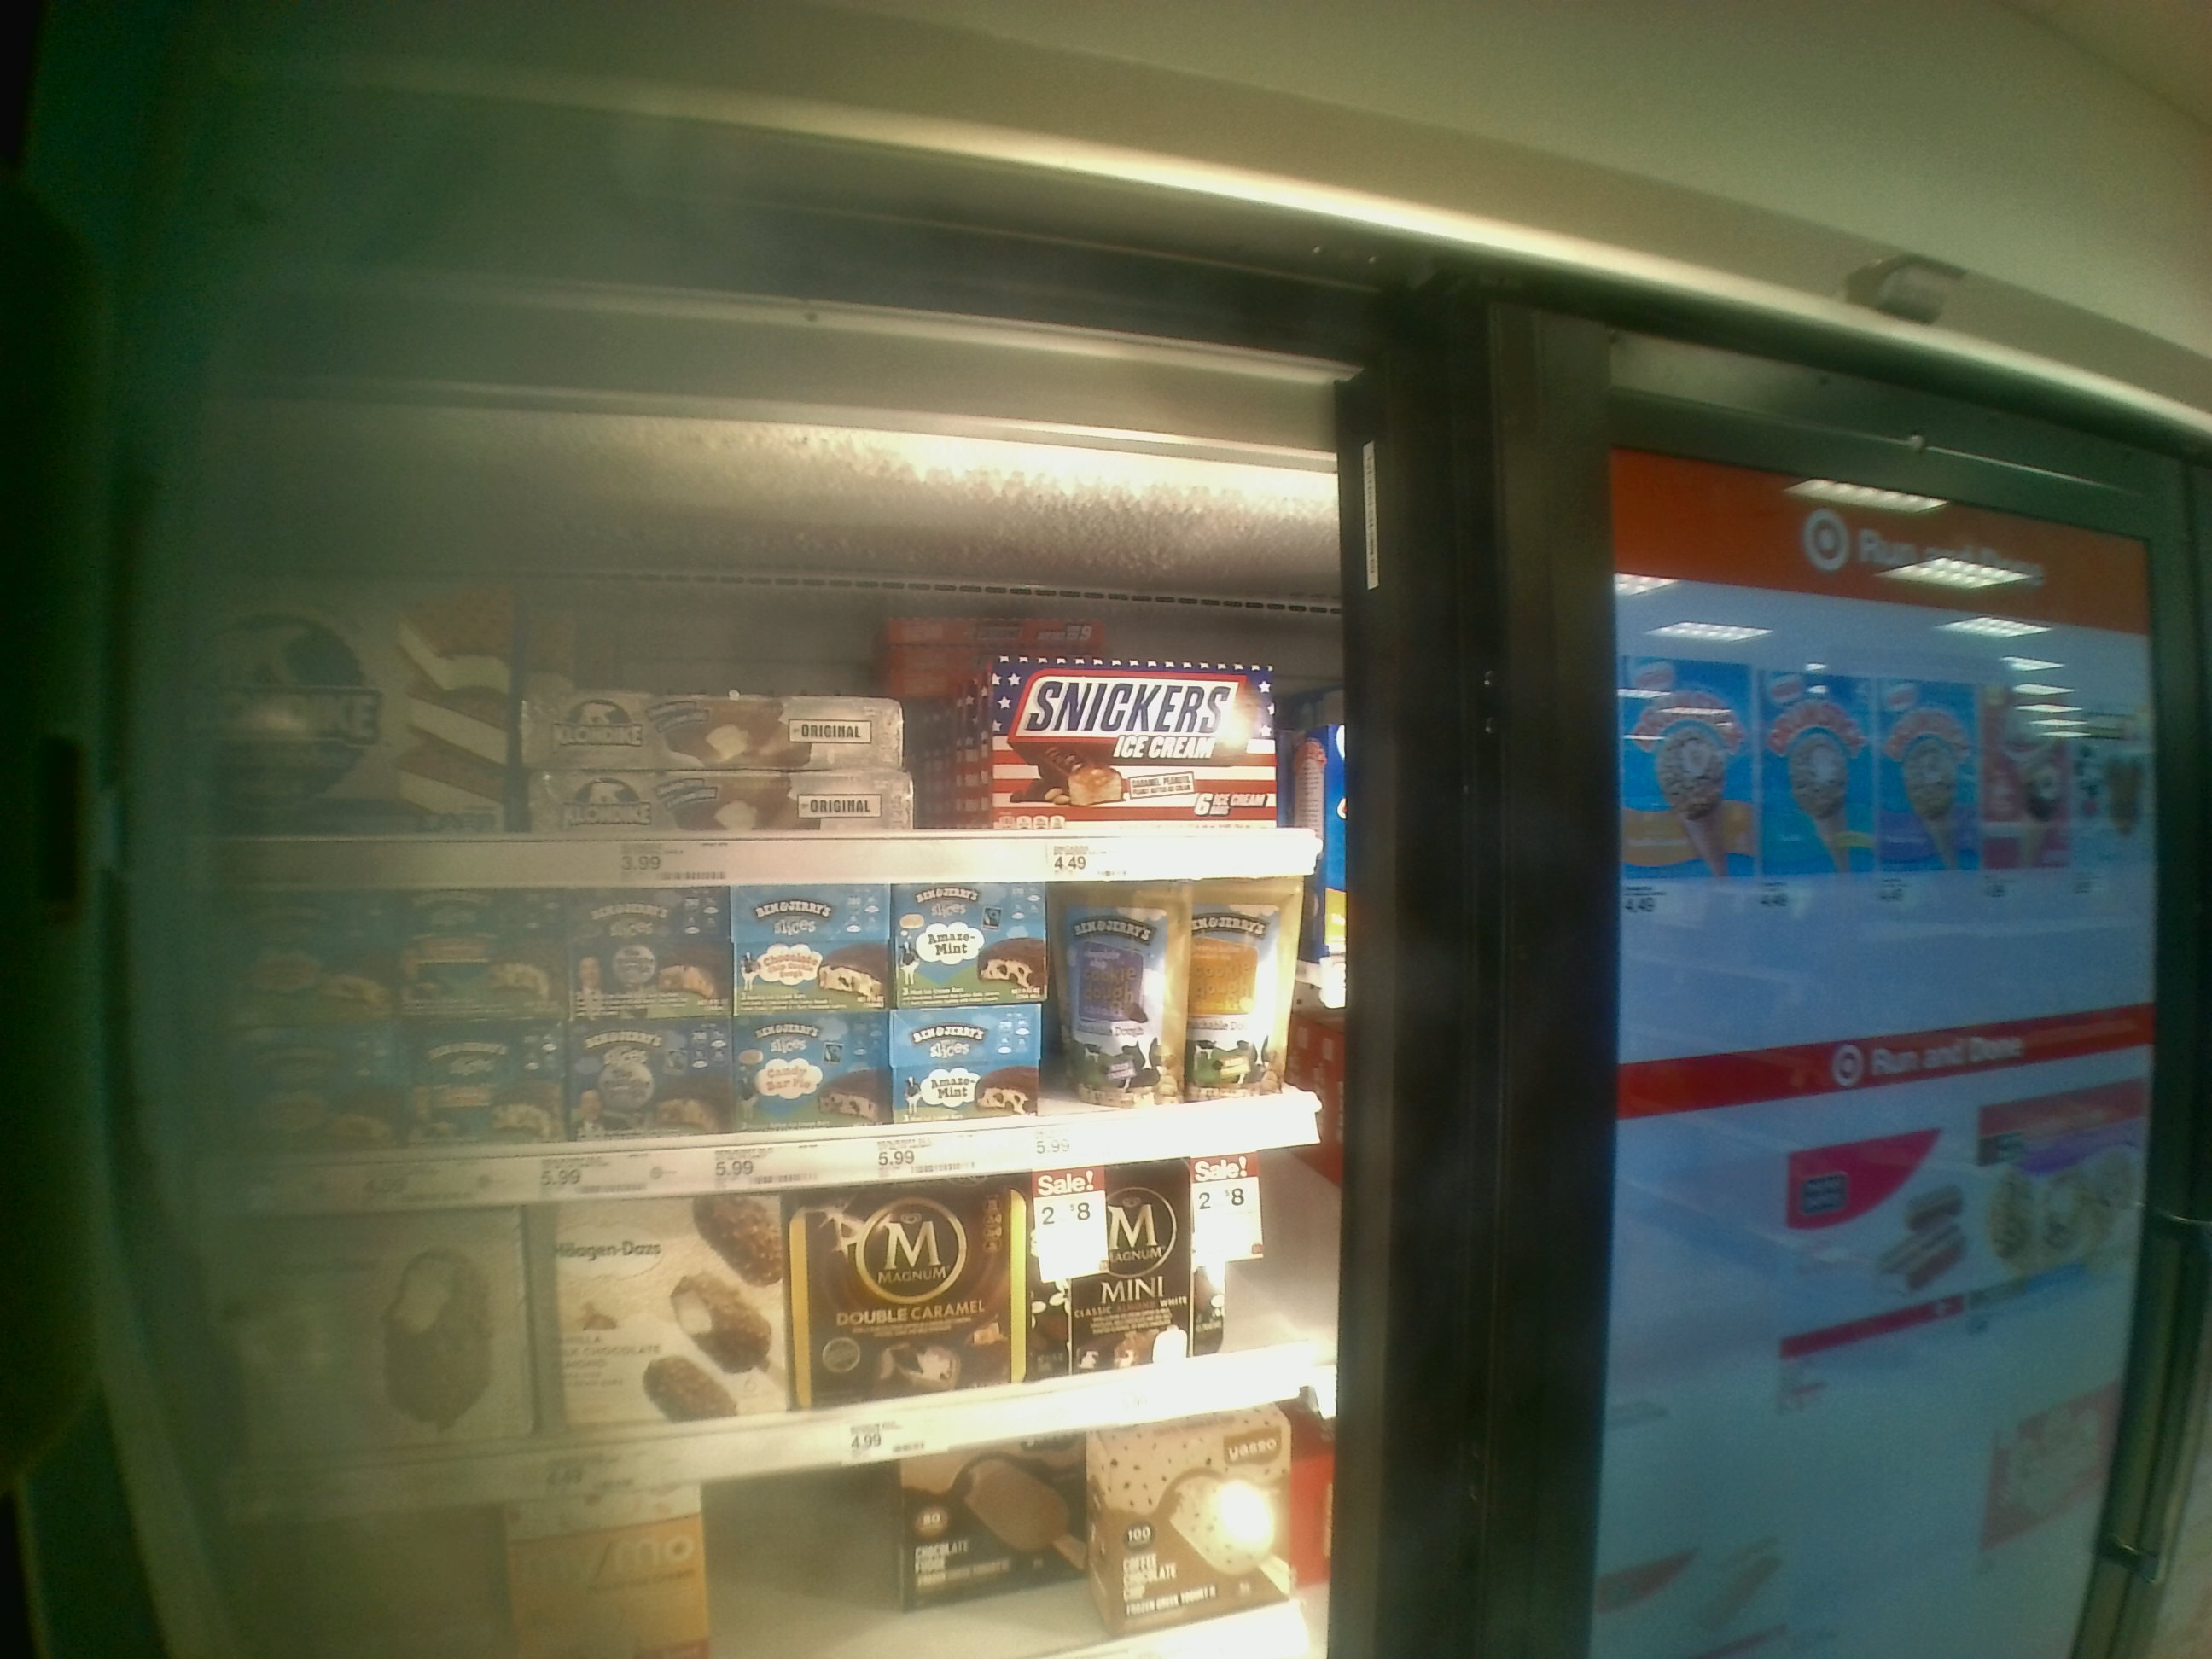ice-cream-shelf: (199, 404, 1348, 892), (193, 894, 1388, 1199)
